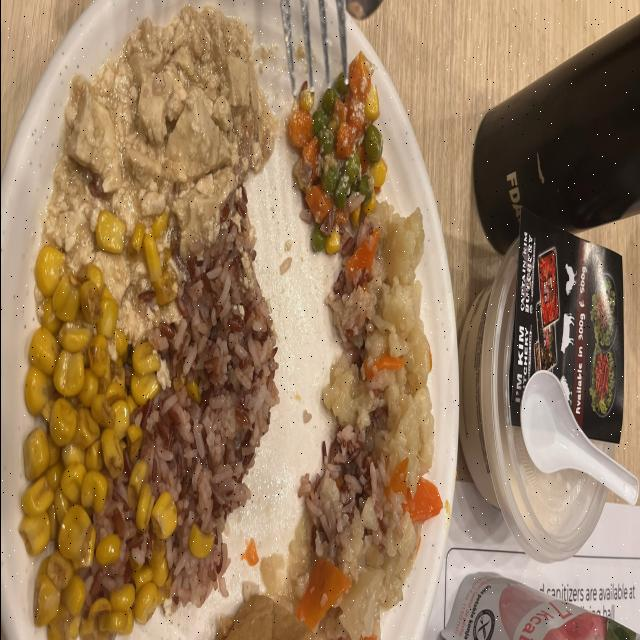Green veg: (312, 73, 382, 211), (311, 223, 332, 254)
Non green veg: (19, 245, 160, 640), (91, 460, 176, 634), (286, 100, 333, 223), (333, 52, 378, 159), (130, 223, 177, 305), (94, 210, 125, 254), (321, 209, 347, 254), (188, 525, 212, 558), (370, 159, 385, 194)
Rice: (138, 189, 278, 606), (299, 426, 371, 560)
Tofu: (42, 7, 273, 340)
